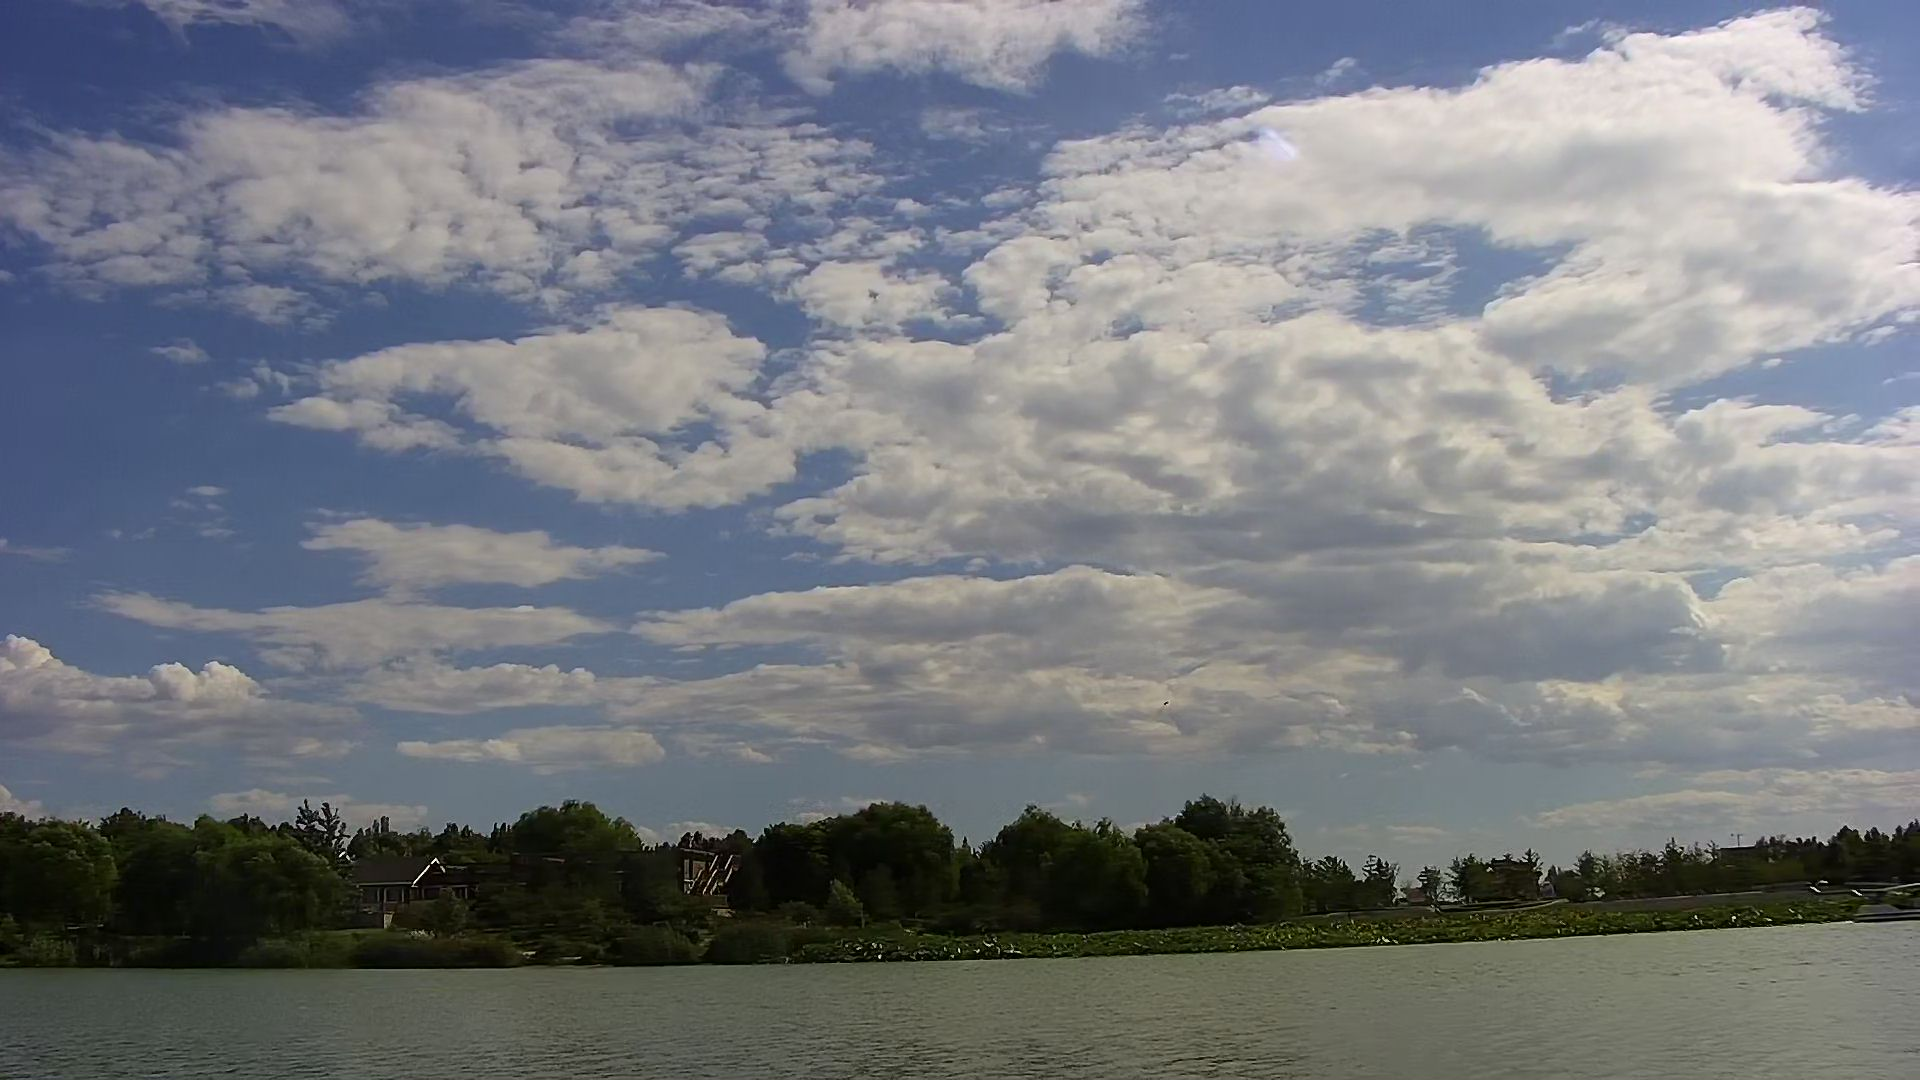grass: (928, 905, 1917, 957)
